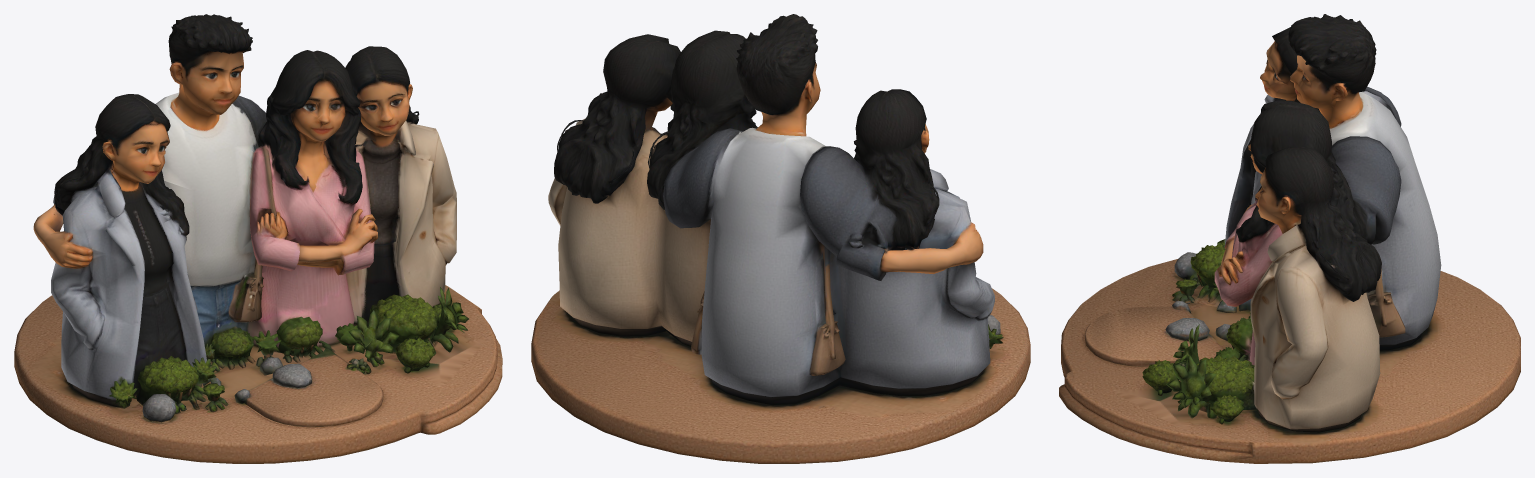
File: family-dolls.glb
3 renders of one model, left to right at view 1: azimuth 30°, elevation 25°; view 2: azimuth 150°, elevation 25°; view 3: azimuth 270°, elevation 25°, orthographic. The views are drawn at different scales.
Parts seen in each view (by area): view 1: tripo_node_c462f9b9-831c-4918-a8f7-3a7298a23372; view 2: tripo_node_c462f9b9-831c-4918-a8f7-3a7298a23372; view 3: tripo_node_c462f9b9-831c-4918-a8f7-3a7298a23372.
Part boxes in pixels (bbox=[...]): tripo_node_c462f9b9-831c-4918-a8f7-3a7298a23372: bbox=[14, 14, 502, 463]; tripo_node_c462f9b9-831c-4918-a8f7-3a7298a23372: bbox=[531, 14, 1030, 463]; tripo_node_c462f9b9-831c-4918-a8f7-3a7298a23372: bbox=[1059, 14, 1520, 463].
Bounding box in the file's own units: 0.998 × 0.7754 × 0.9746.
Materials: 1 (1 with a texture image).
